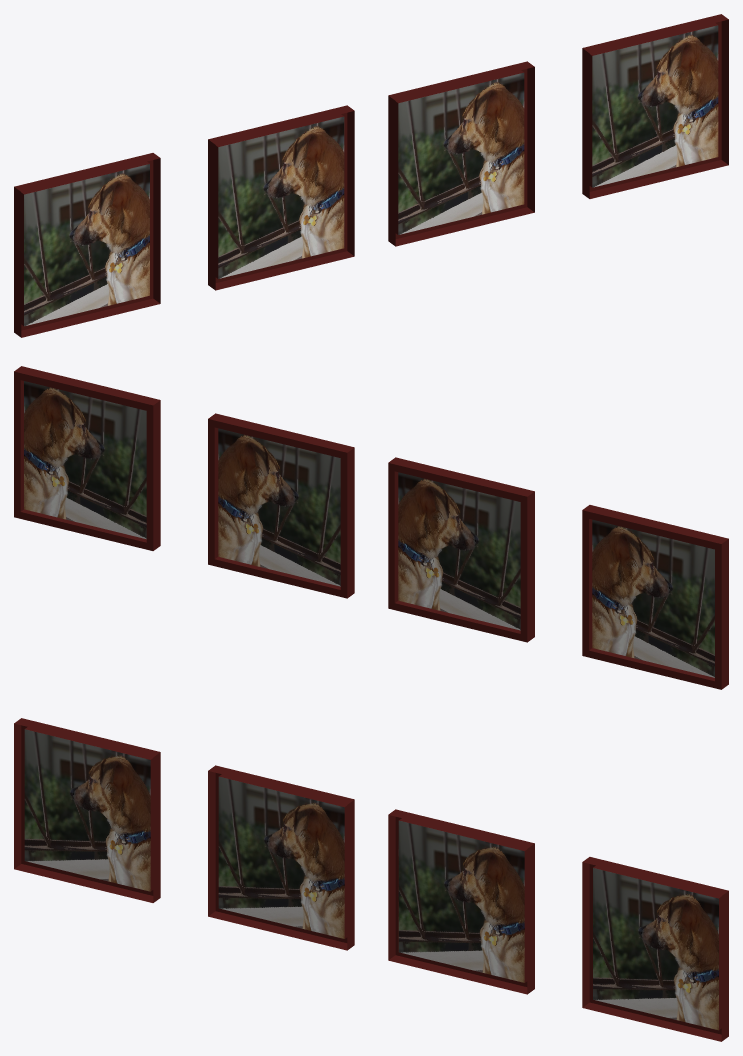
The model's file is Paintings.fbx.
3 renders of one model, top to bottom at view 1: azimuth 30°, elevation 25°; view 2: azimuth 150°, elevation 25°; view 3: azimuth 330°, elevation 25°, orthographic.
Parts seen in each view (by area): view 1: Cube.001; view 2: Cube.001; view 3: Cube.001.
Part boxes in pixels (bbox=[...]): Cube.001: bbox=[14, 14, 728, 337]; Cube.001: bbox=[14, 366, 728, 689]; Cube.001: bbox=[14, 718, 728, 1041].
Size of the model in its own units: 15.21 by 3 by 0.2777.
2 materials, 1 textured.
